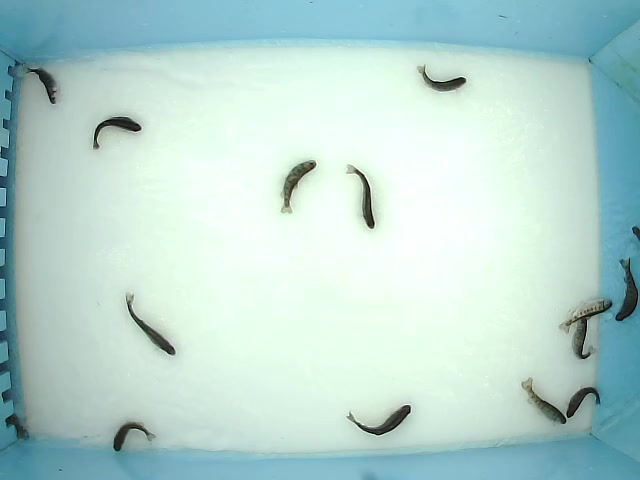fish: (123, 291, 178, 357), (520, 375, 567, 427), (345, 403, 412, 438), (278, 159, 317, 217), (557, 297, 614, 335), (345, 162, 376, 230), (92, 115, 142, 152), (614, 257, 639, 323), (415, 63, 467, 93), (112, 421, 157, 454), (24, 66, 61, 106), (571, 315, 597, 361), (566, 386, 602, 419)
